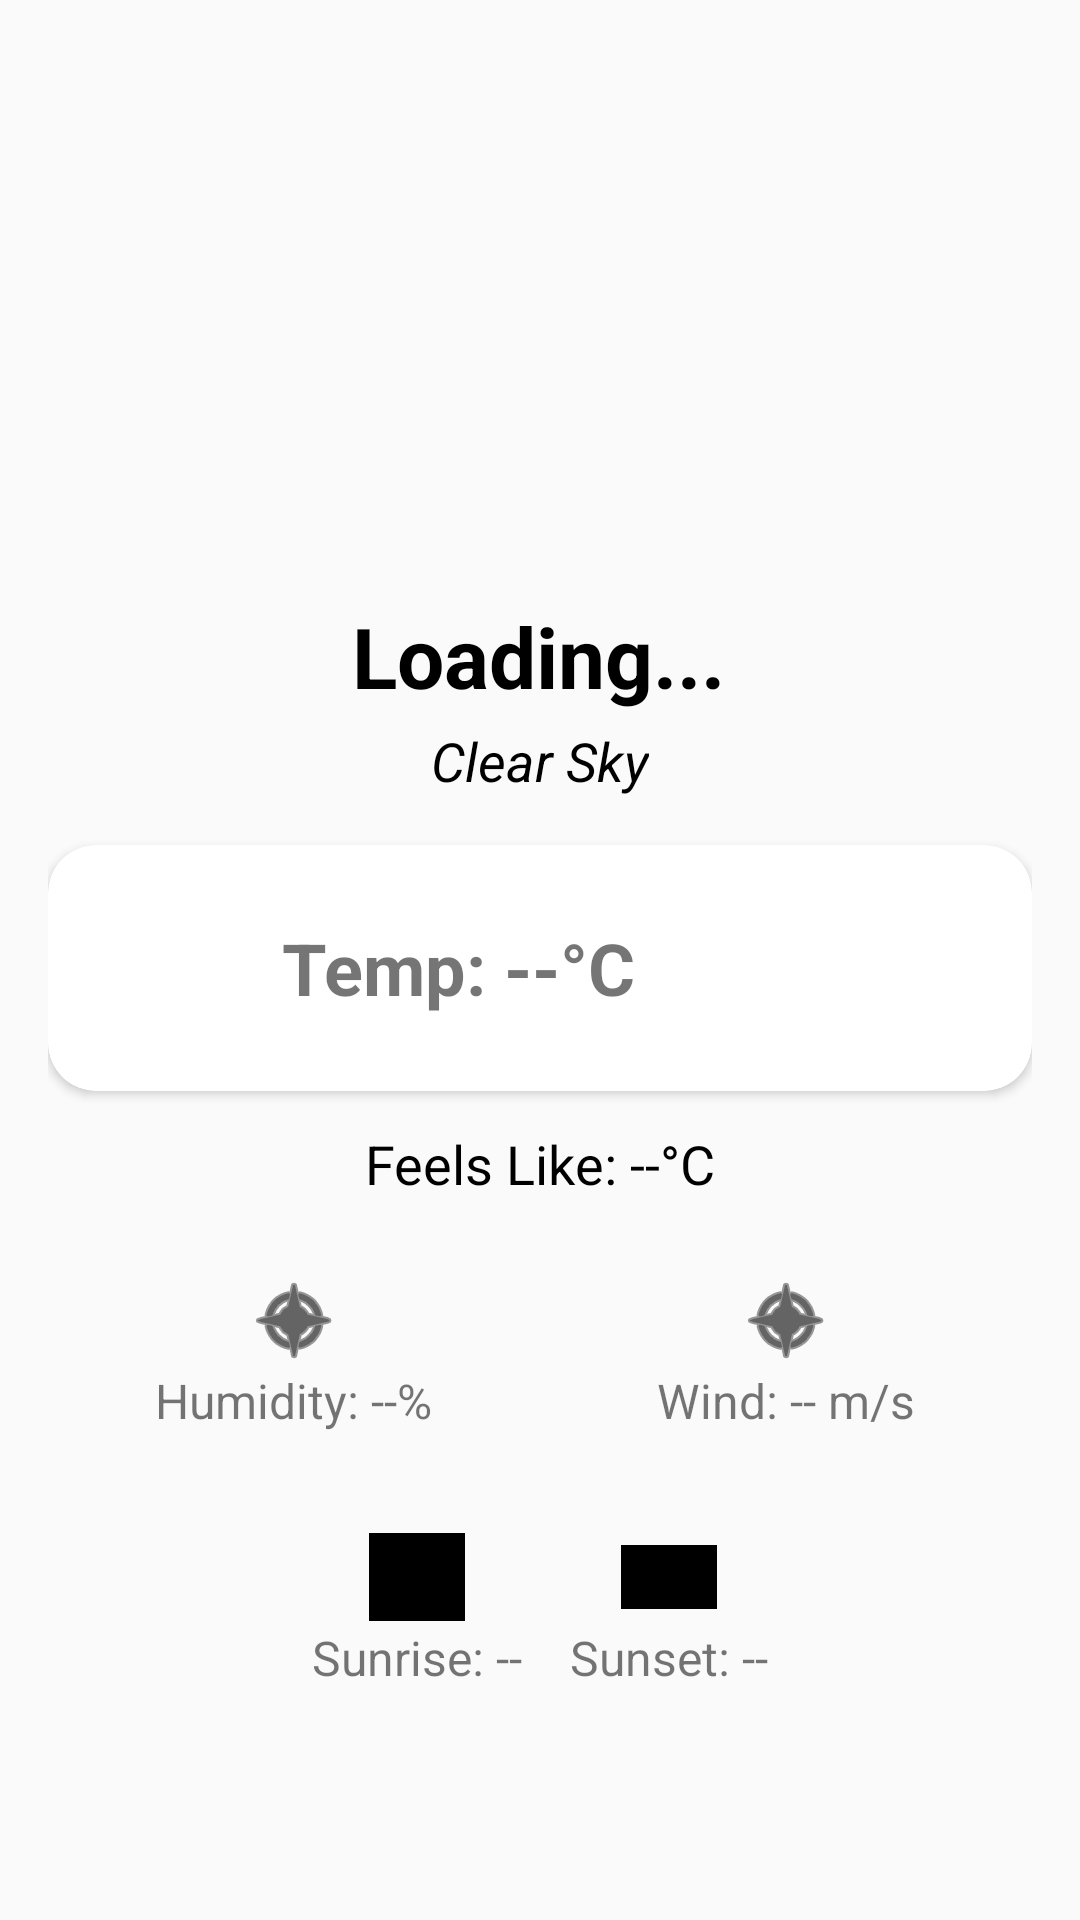

Where icons sit on this 1080 × 1920 app screen, as (x1, y1, x2, y2):
compass: (256, 1283, 332, 1358), (748, 1283, 824, 1358)
